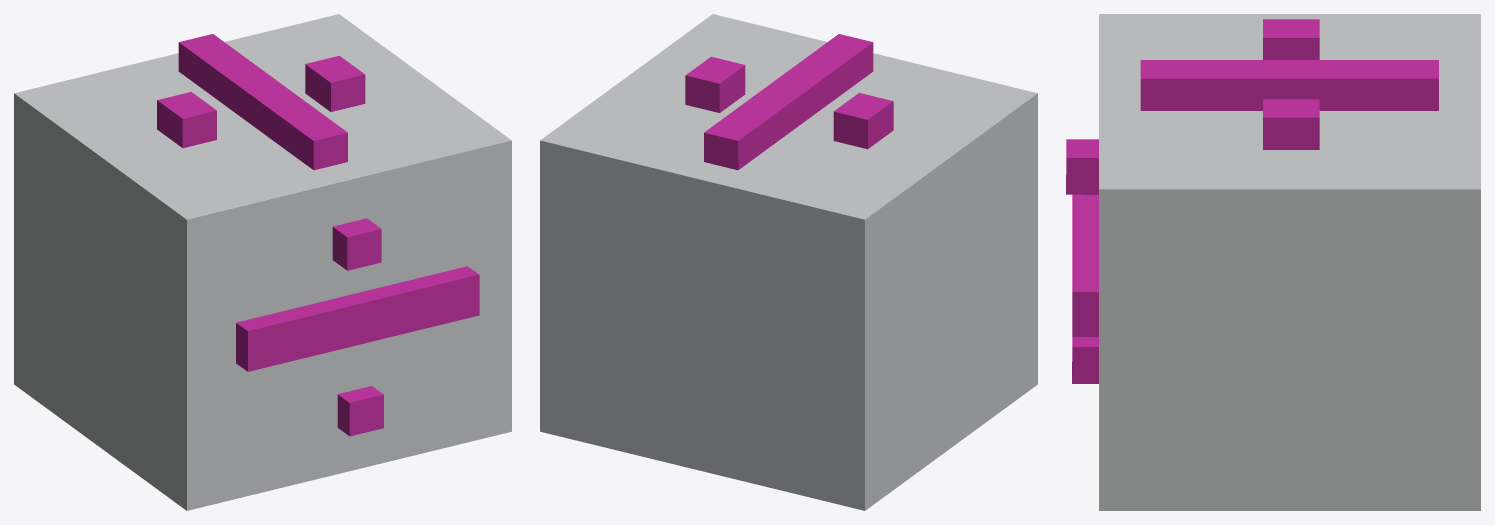
Rendered from divide.glb.
3 renders of one model, left to right at view 1: azimuth 30°, elevation 25°; view 2: azimuth 150°, elevation 25°; view 3: azimuth 270°, elevation 25°, orthographic. The views are drawn at different scales.
Visible parts, largest first — view 1: Mesh_Mesh_head_geo.001_lambert2SG.001; view 2: Mesh_Mesh_head_geo.001_lambert2SG.001; view 3: Mesh_Mesh_head_geo.001_lambert2SG.001.
Boxes of the visible parts, left/top/right/bottom form: Mesh_Mesh_head_geo.001_lambert2SG.001: left=14, top=14, right=511, bottom=510; Mesh_Mesh_head_geo.001_lambert2SG.001: left=540, top=14, right=1037, bottom=510; Mesh_Mesh_head_geo.001_lambert2SG.001: left=1066, top=14, right=1480, bottom=510.
Bounding box in the file's own units: 0.139 × 0.131 × 0.139.
